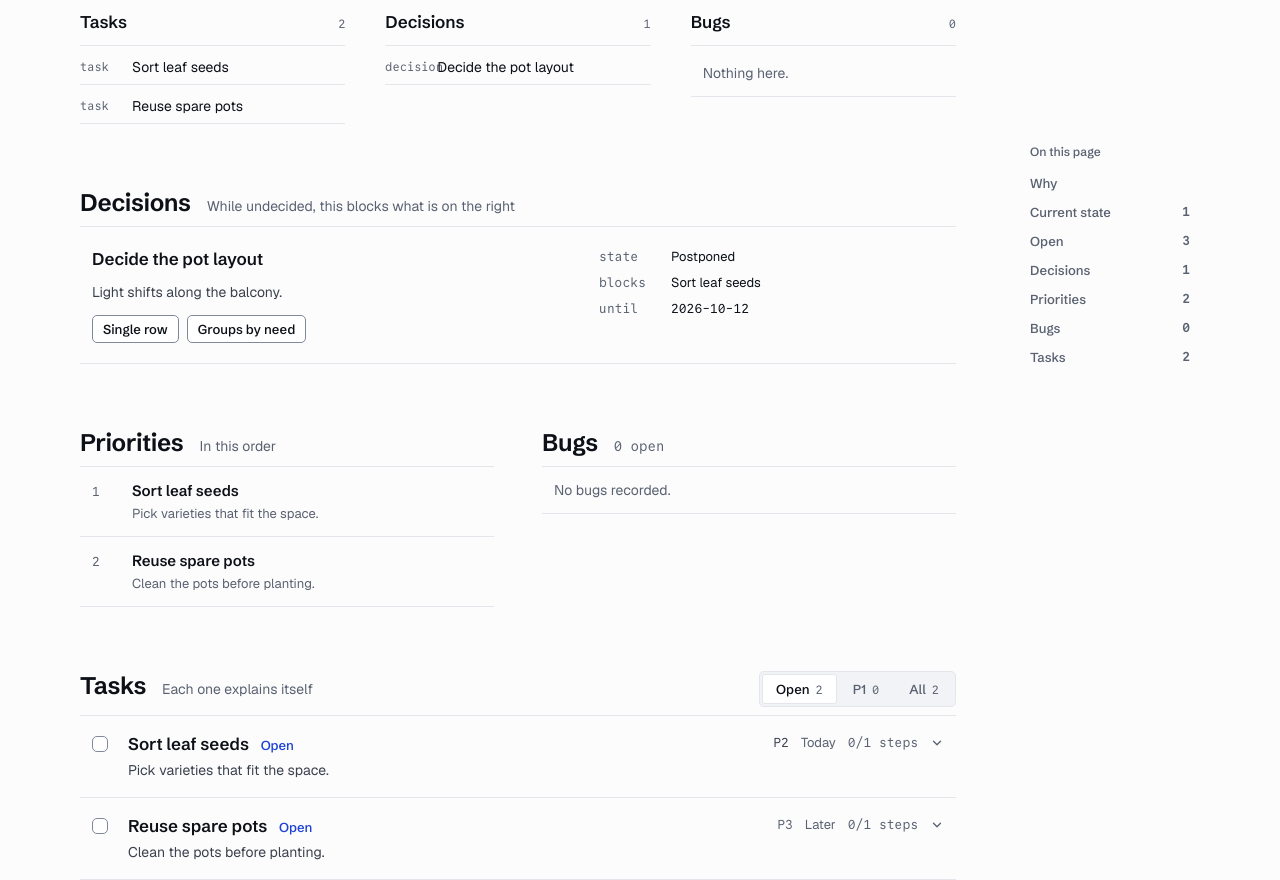
Test: project view over the mock source › collapses and expands individual tasks
The image size is (1280, 880).
(page scrolled)
Click the button with class "task" that starts with "Sort leaf seeds": [190, 744] box [80,716,956,797]
(page scrolled)
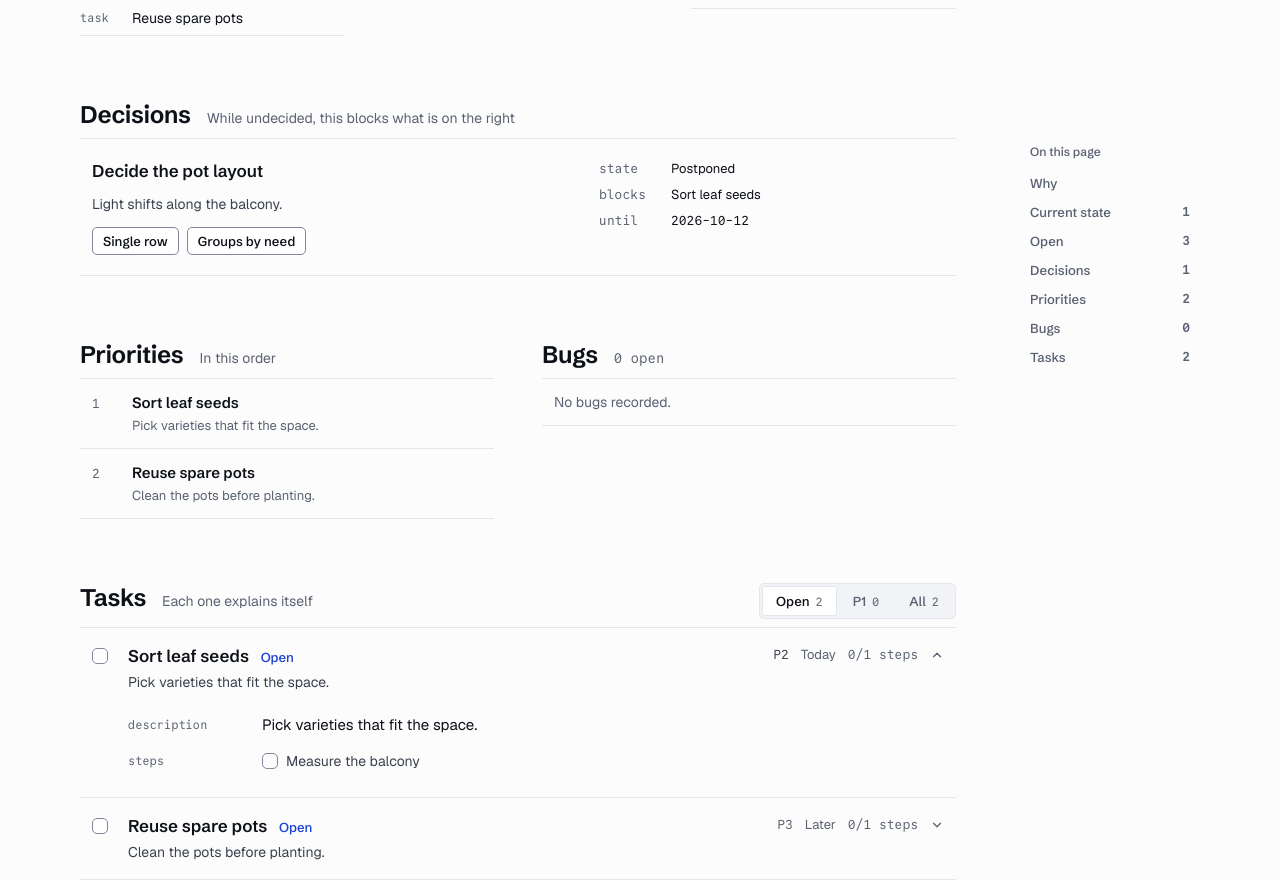
Check: the button with class "task" is expanded
Check: the number of elements with class "task-body" is 1, box [128,715,477,770]
Check: the element with class "task-body" shows "steps", box [128,754,164,767]
Click the button with class "task" that starts with "Sort leaf seeds": [190, 656] box [80,628,956,797]
(page scrolled)
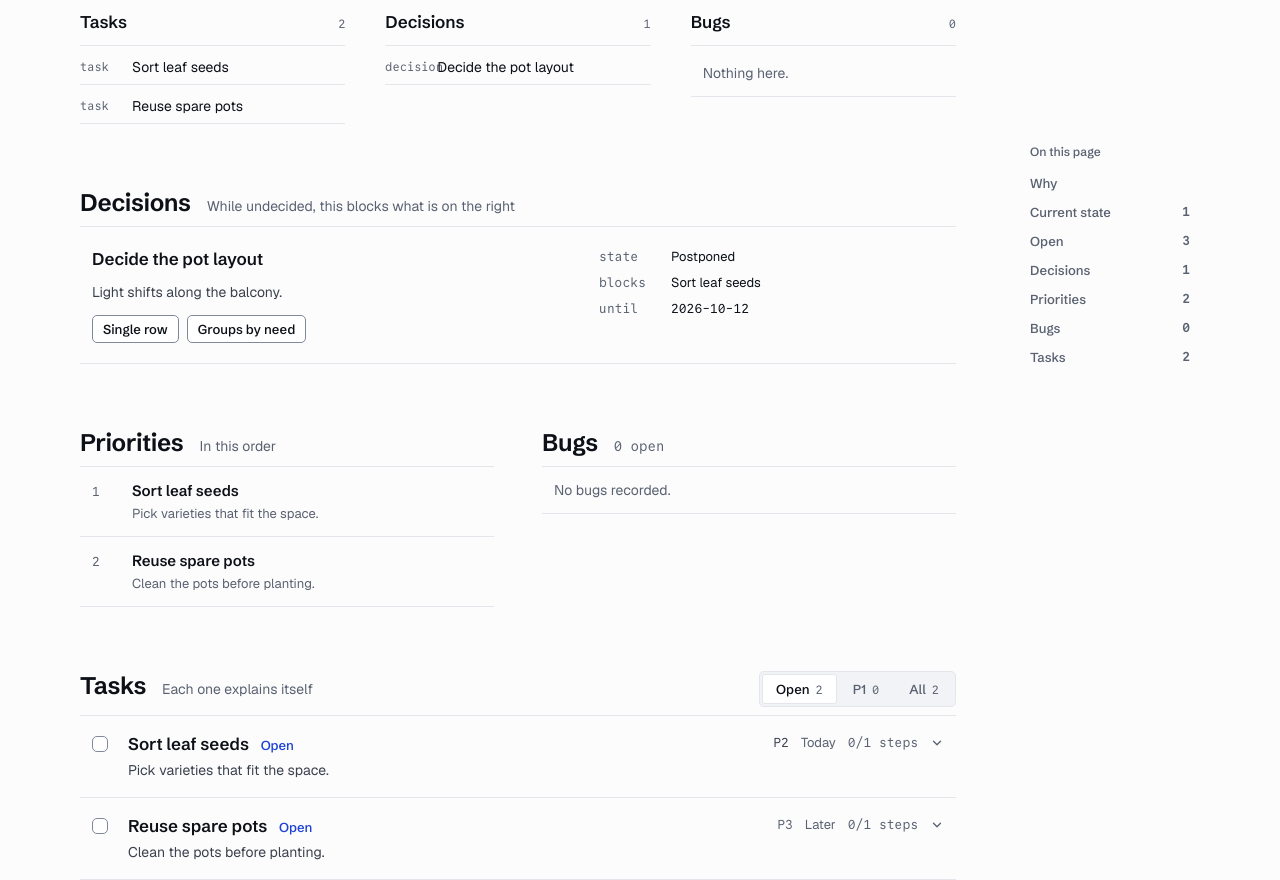
Check: no elements with class "task-body" are shown
